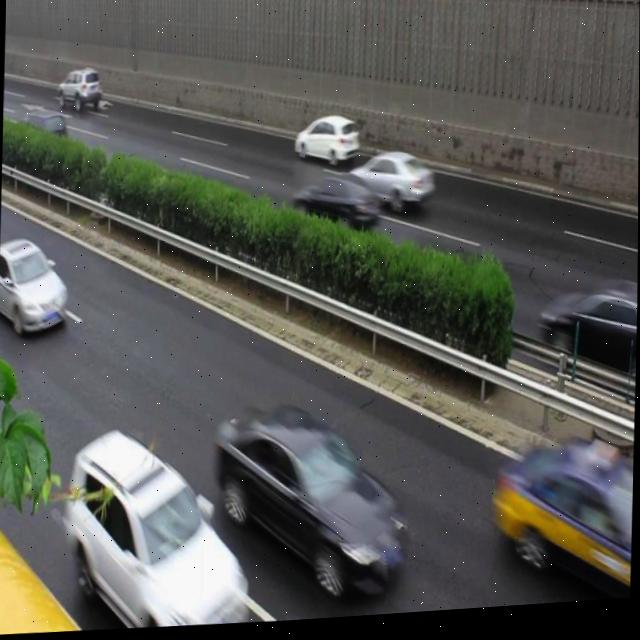car: (215, 388, 414, 609), (64, 429, 244, 635), (489, 432, 634, 614), (544, 277, 638, 387), (0, 234, 71, 335), (290, 171, 379, 250), (352, 145, 431, 220), (293, 114, 360, 175), (16, 103, 69, 154), (54, 62, 101, 115)
